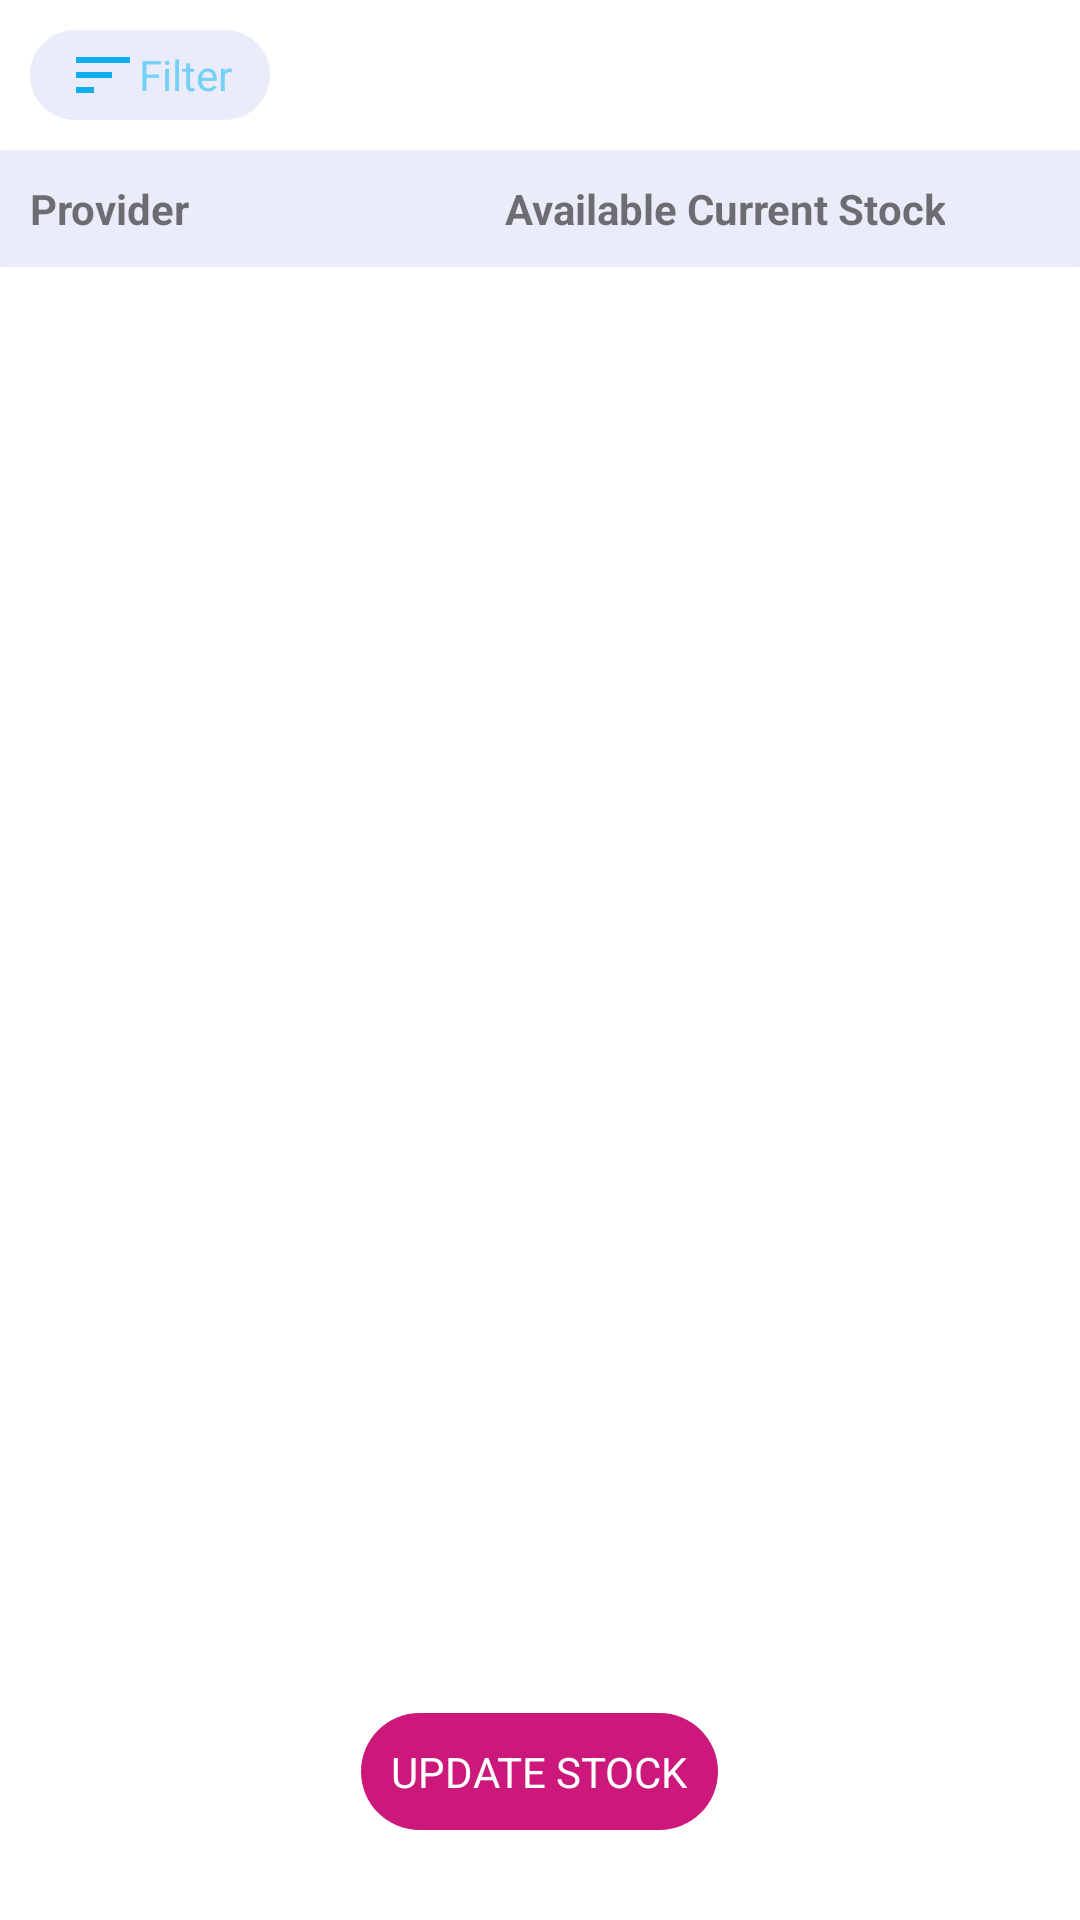

Where to tap for icons on this 1080*1920 app screen, as (x=x, y=y):
sort: (x=103, y=75)
